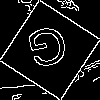G: (25, 25, 72, 78)
